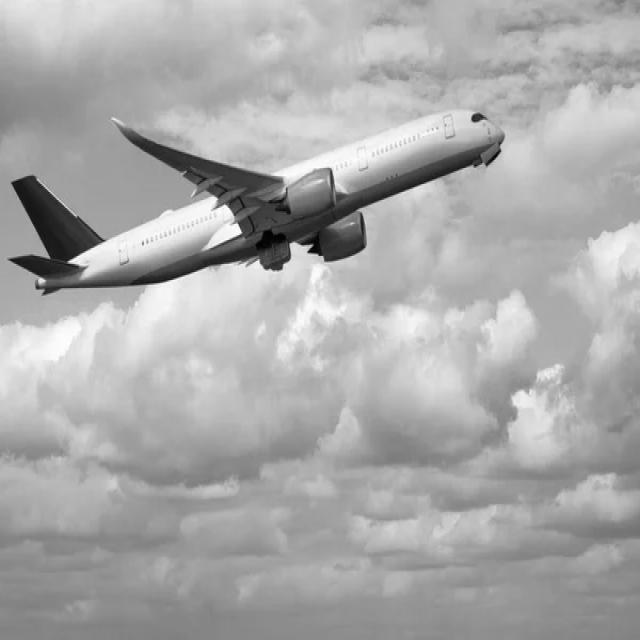Aircraft: (10, 94, 516, 301)
